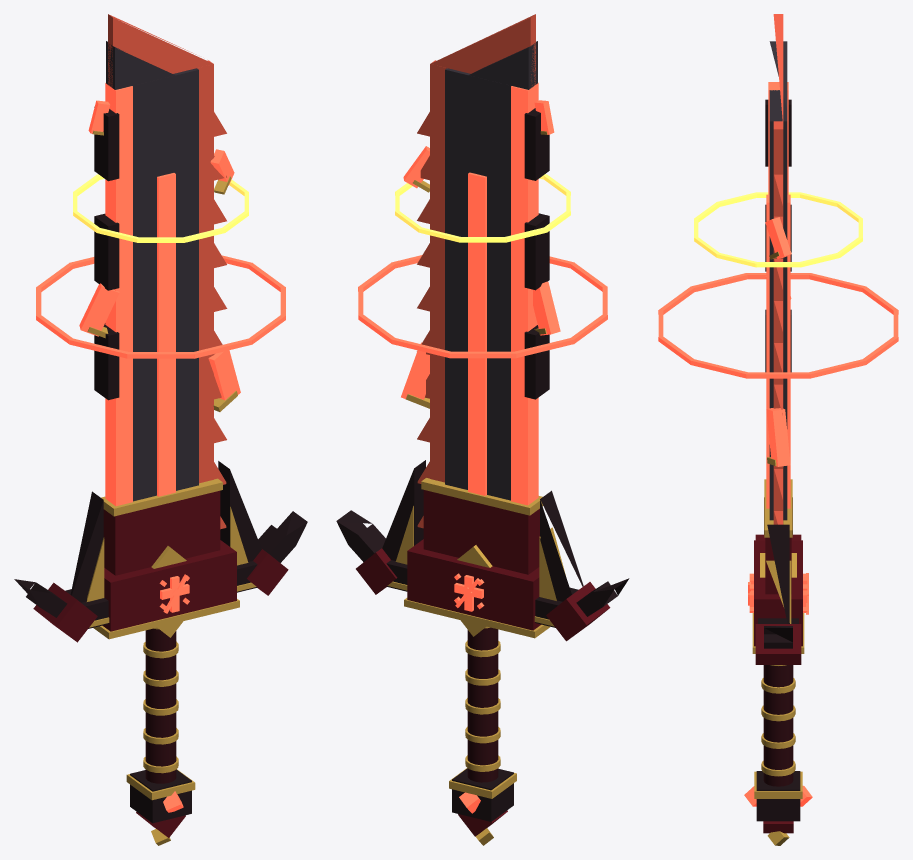
The picture shows the model from 3 angles, left to right: view 1: azimuth 30°, elevation 25°; view 2: azimuth 150°, elevation 25°; view 3: azimuth 270°, elevation 25°; orthographic projection. The views are drawn at different scales.
Parts seen in each view (by area): view 1: carnage-cleaver; view 2: carnage-cleaver; view 3: carnage-cleaver.
Part boxes in pixels (<box>): carnage-cleaver: <box>14,14,307,845</box>; carnage-cleaver: <box>336,14,629,845</box>; carnage-cleaver: <box>658,14,898,845</box>.
Size of the model in its own units: 0.627 by 1.81 by 0.487.
